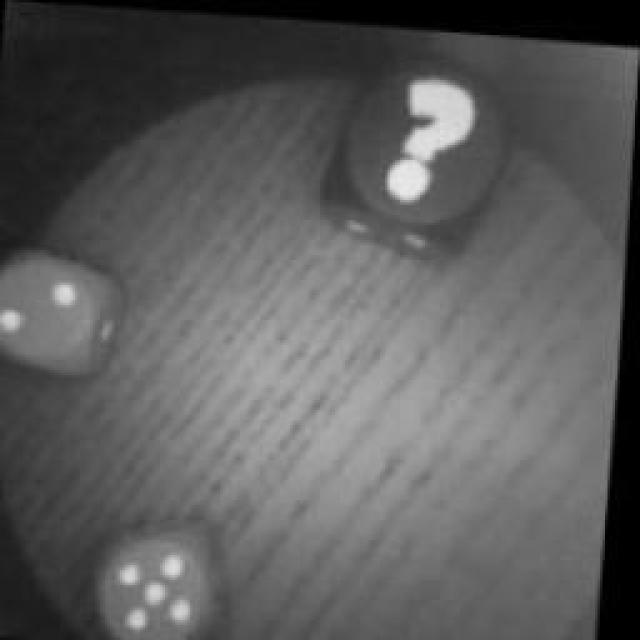dice_2: (0, 236, 130, 396)
dice_5: (97, 510, 245, 640)
